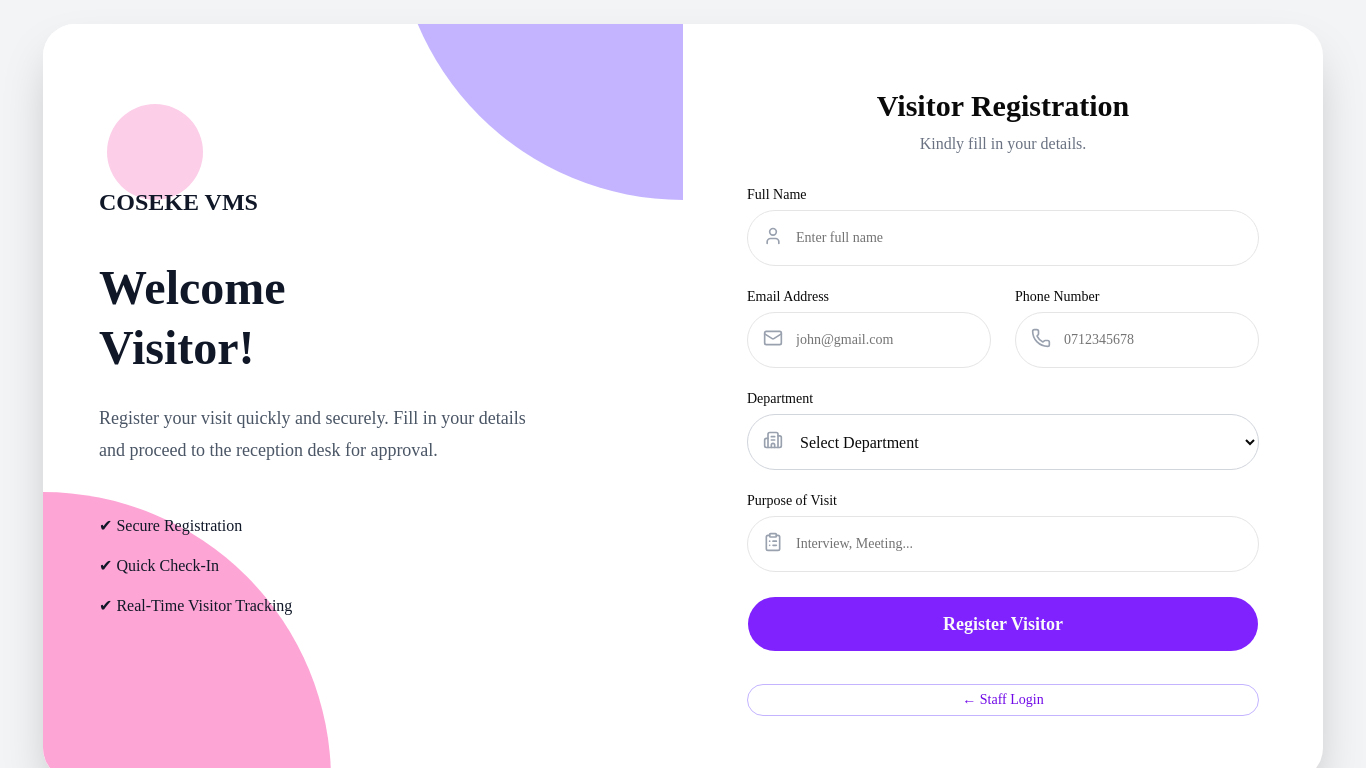
Test case: VisitorForm Component › should display validation errors for empty fields
The image size is (1366, 768).
Click the button "Register Visitor" at (1003, 624), box [747, 596, 1259, 652]
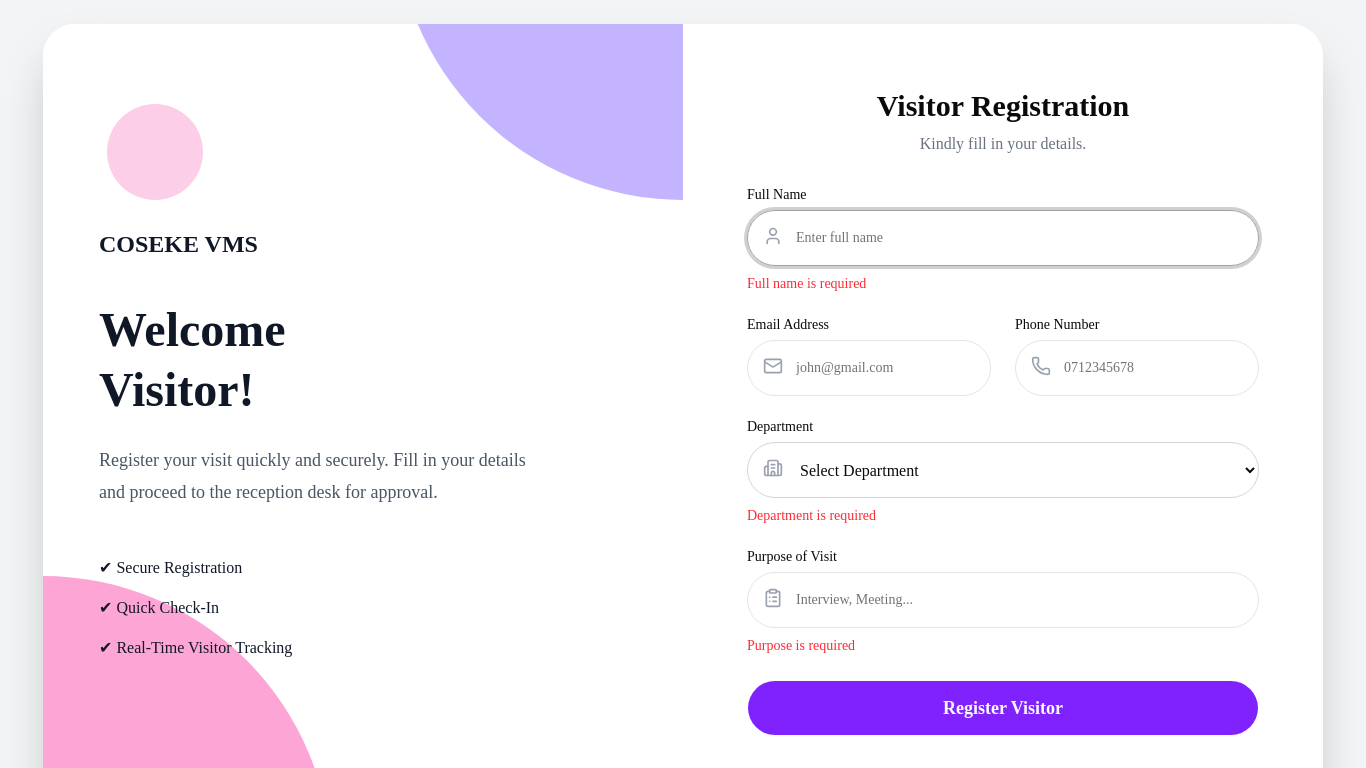
Now the text "Full name is required" is shown, box [747, 276, 866, 291]
Now the text "Purpose is required" is shown, box [747, 638, 855, 653]
